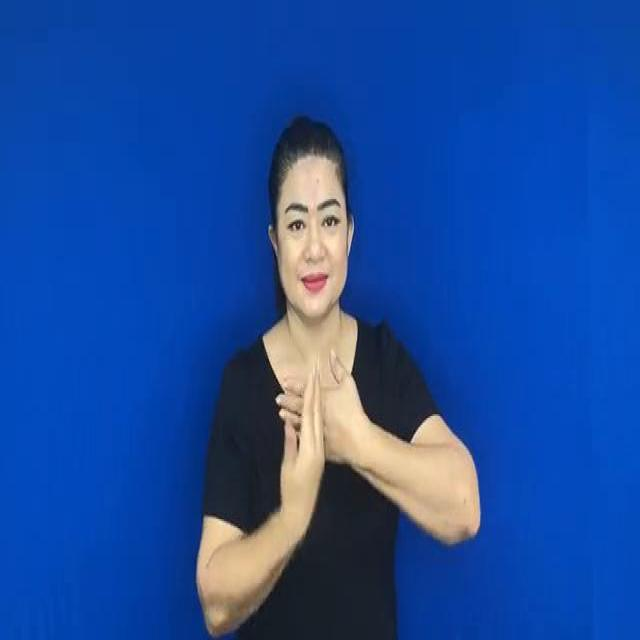bread: (266, 354, 372, 518)
